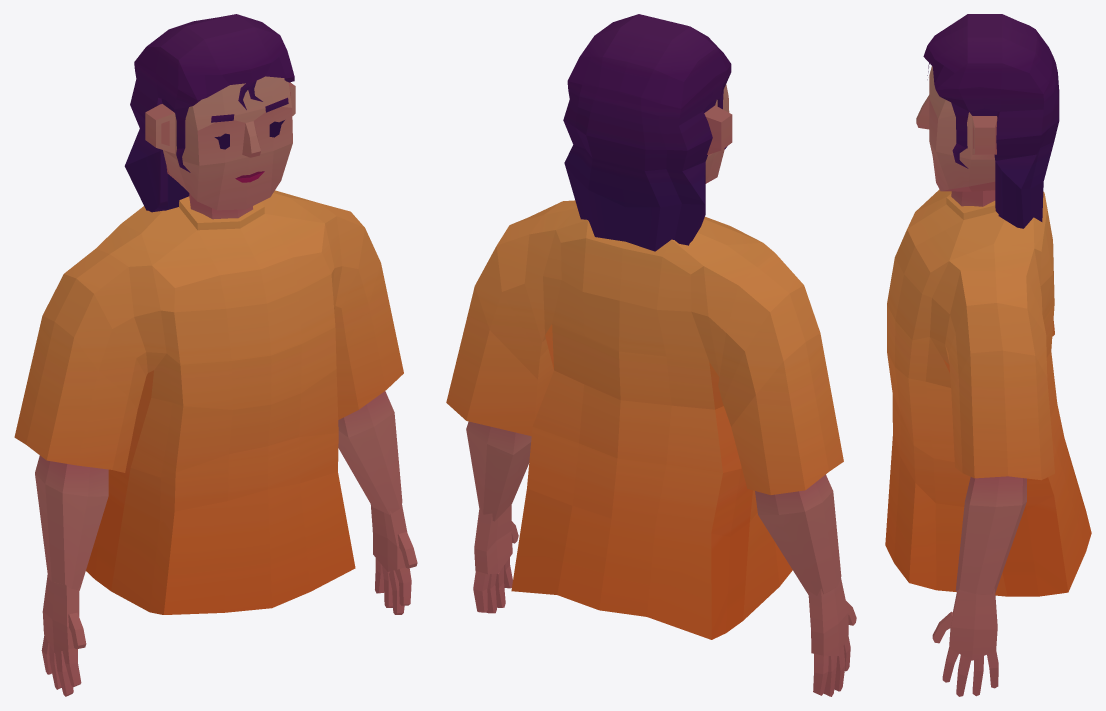
The model's file is Girl_Yellow.glb.
3 views of the same model, side by side, from view 1: azimuth 30°, elevation 25°; view 2: azimuth 150°, elevation 25°; view 3: azimuth 270°, elevation 25° (orthographic). The views are drawn at different scales.
Visible parts, largest first — view 1: Girl_Yellow; view 2: Girl_Yellow; view 3: Girl_Yellow.
Part boxes in pixels (x1,y1,x2,y2): Girl_Yellow: (14, 14, 417, 696); Girl_Yellow: (446, 14, 856, 696); Girl_Yellow: (885, 14, 1091, 696).
Size of the model in its own units: 2.43 by 3.95 by 1.25.
Materials: 1 (1 with a texture image).
